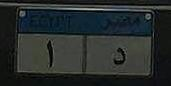1: (44, 38, 57, 70)
daal: (110, 45, 129, 71)
